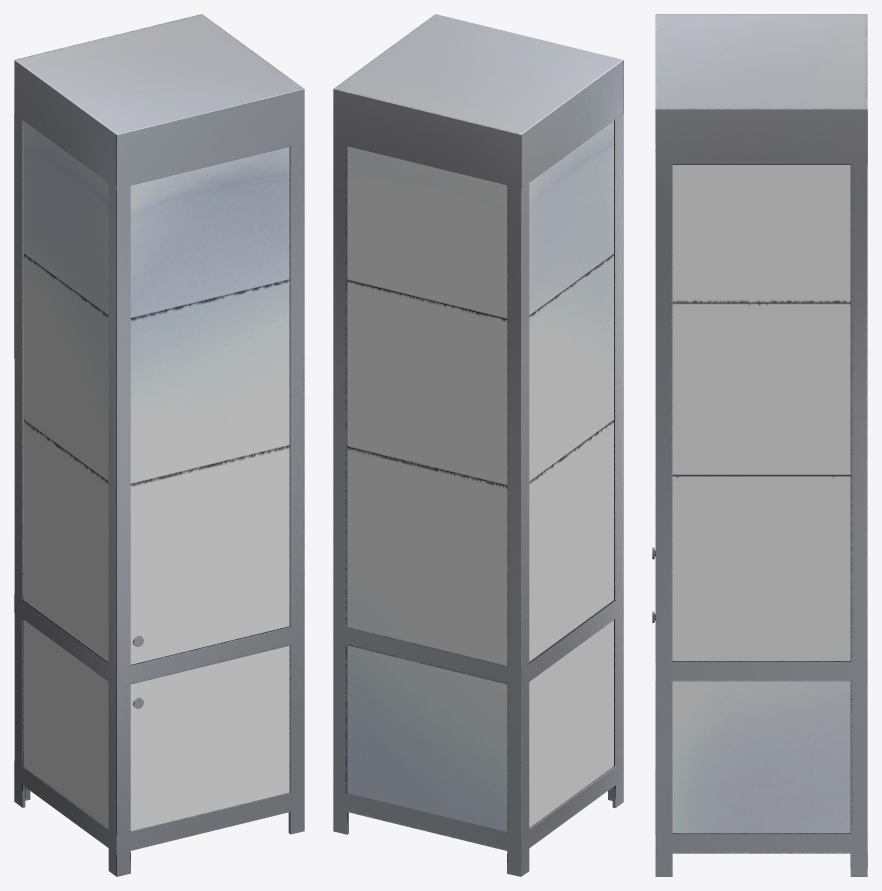
File: guello_50.glb
3 renders of one model, left to right at view 1: azimuth 30°, elevation 25°; view 2: azimuth 150°, elevation 25°; view 3: azimuth 270°, elevation 25°, orthographic. The views are drawn at different scales.
Visible parts, largest first — view 1: glass, guello_100; view 2: glass, guello_100; view 3: glass, guello_100.
Part boxes in pixels (x1=…): glass: x1=24, y1=121, x2=289, y2=830; guello_100: x1=14, y1=14, x2=304, y2=876; glass: x1=347, y1=121, x2=613, y2=831; guello_100: x1=333, y1=14, x2=623, y2=876; glass: x1=672, y1=165, x2=850, y2=832; guello_100: x1=652, y1=14, x2=867, y2=876.
Size of the model in its own units: 0.5296 by 2 by 0.5081.
2 materials, 2 textured.
